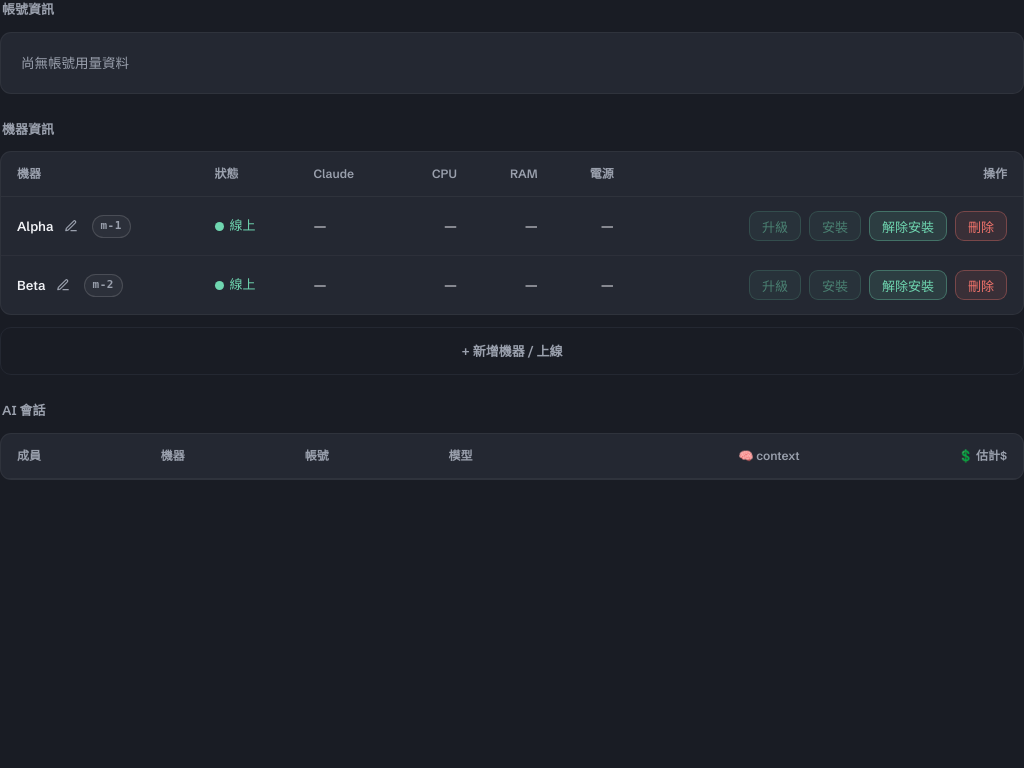
MonitorPage uninstall members guard › goes straight to the plain confirm when every member on the machine is offline
Click the button with test id "mon-uninstall-btn" in the row of "Beta" at (908, 285), box [869,270,947,300]
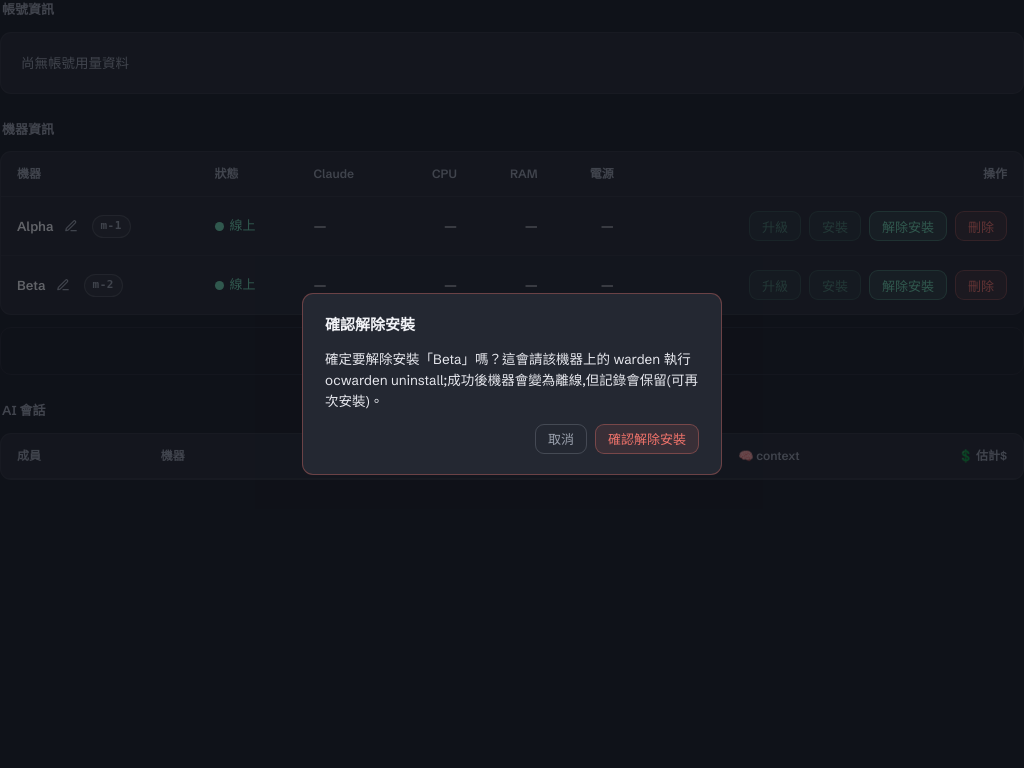
Expected: the dialog with test id "mon-uninstall-confirm" is shown
